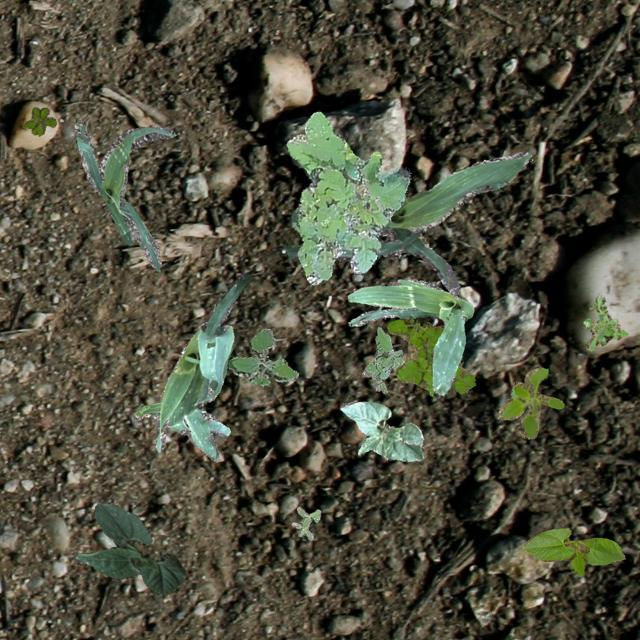crop: (284, 150, 530, 294), (134, 268, 252, 460), (74, 118, 174, 270), (347, 278, 472, 394), (74, 501, 184, 594), (522, 526, 624, 576), (338, 400, 422, 460)
weed: (286, 110, 410, 284), (386, 318, 474, 396), (497, 367, 562, 438), (226, 326, 298, 384), (362, 327, 404, 392), (582, 294, 626, 350), (290, 506, 320, 540), (22, 106, 56, 134)
